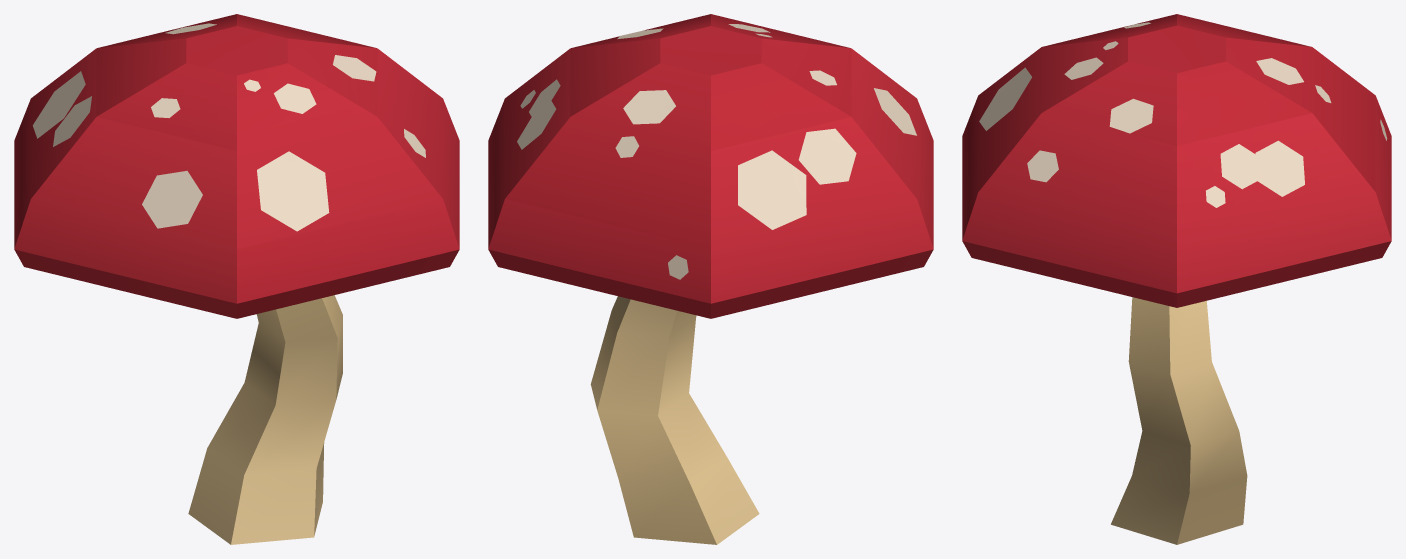
File: mushroom_red.fbx
The picture shows the model from 3 angles, left to right: view 1: azimuth 30°, elevation 25°; view 2: azimuth 150°, elevation 25°; view 3: azimuth 270°, elevation 25°; orthographic projection. The views are drawn at different scales.
Visible parts, largest first — view 1: pCylinder34; view 2: pCylinder34; view 3: pCylinder34.
Part boxes in pixels (<box>): pCylinder34: <box>14,14,459,544</box>; pCylinder34: <box>488,14,933,544</box>; pCylinder34: <box>962,14,1391,544</box>.
Size of the model in its own units: 6.69 by 6.78 by 5.8.
Materials: 1 (1 with a texture image).
